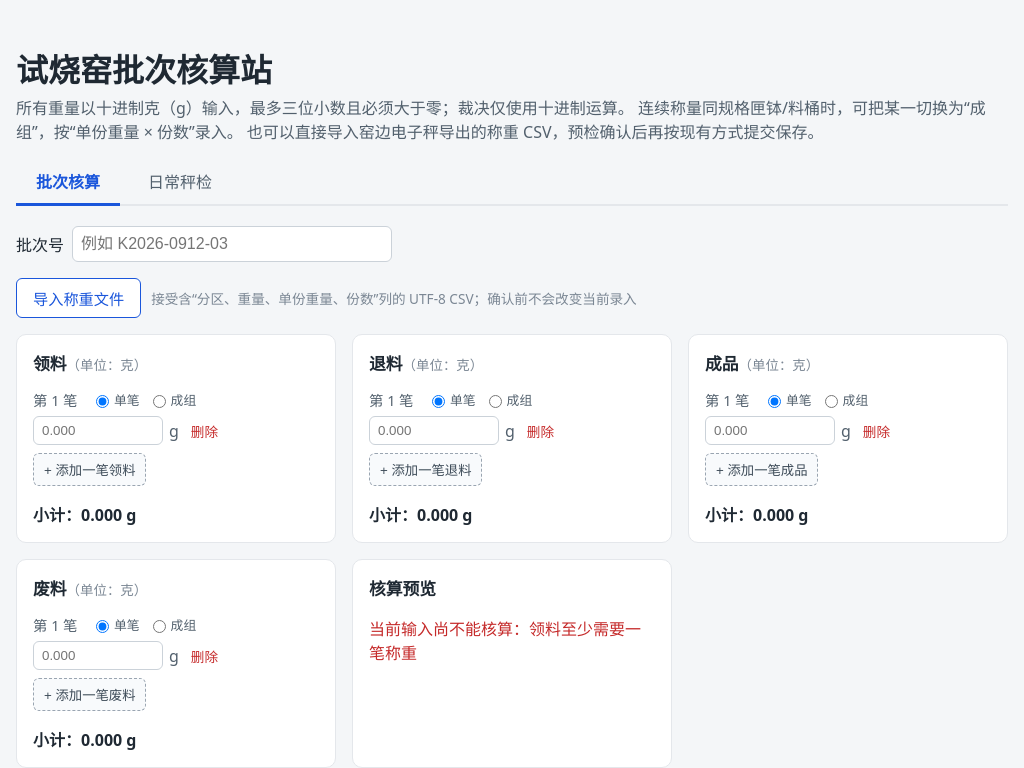
Test case: App 核算站 › 单笔非法重量在提交前被本地十进制校验拦下
This screenshot has width=1024, height=768.
Type "BAD-1" into the field with test id "batch-no" showing "批次号". click: (232, 244)
box: [72,226,392,262]
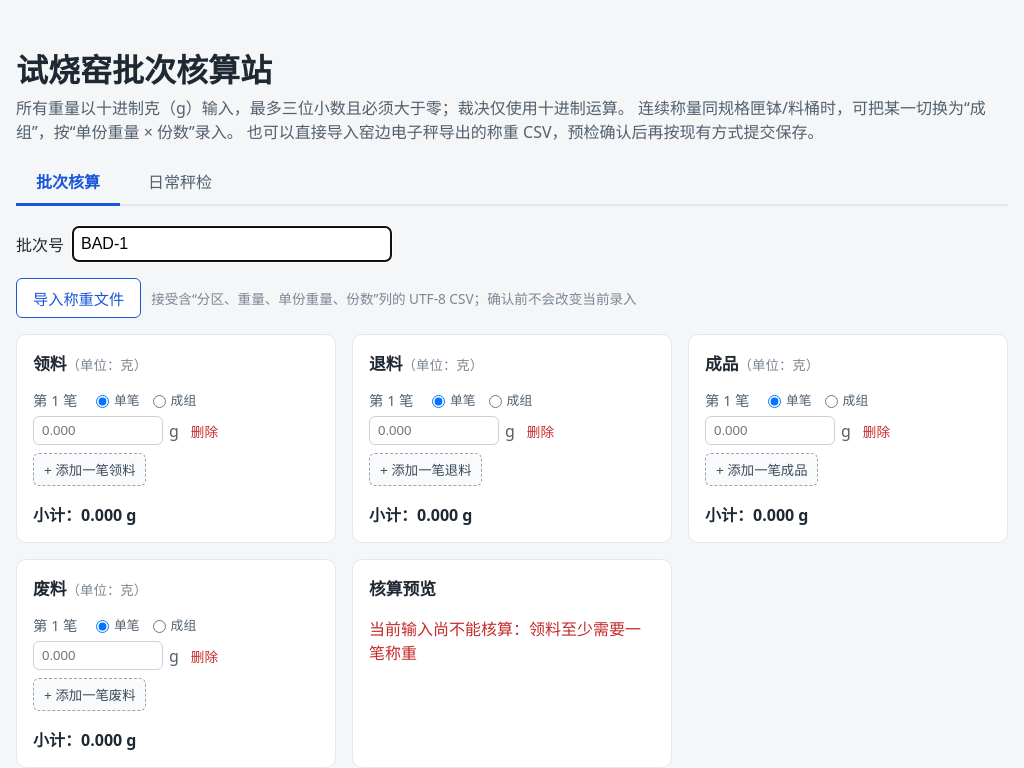
Type "0" into the field named "领料第1笔重量（克）". click: (98, 431)
box: [33,416,163,445]
(page scrolled)
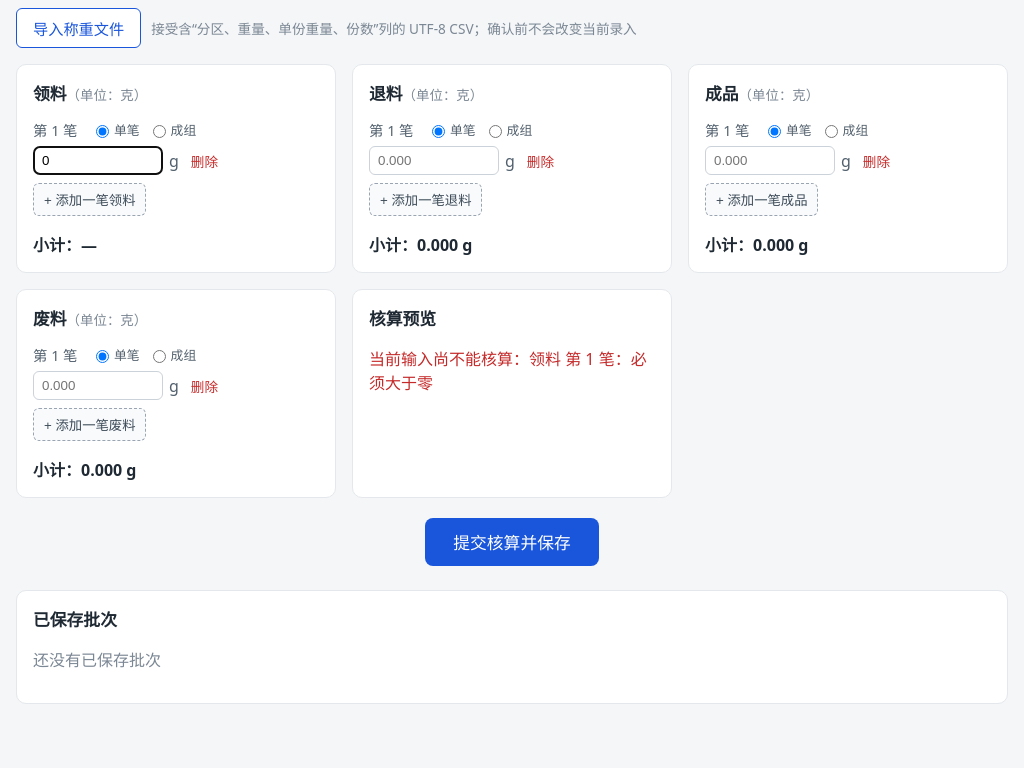
Check: the text "当前输入尚不能核算：领料 第 1 笔：必须大于零" is shown, box [369,346,655,394]
Click the button with test id "submit". click: (512, 542)
box: [425,518,599,566]
(page scrolled)
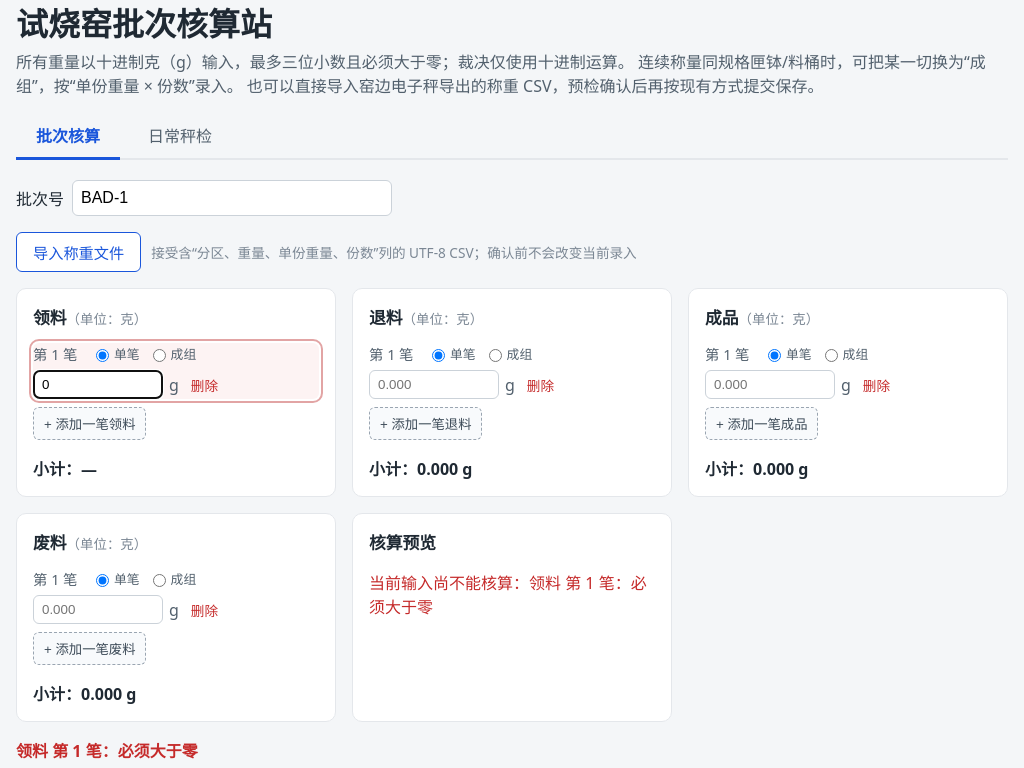
Check: the message with test id "form-error" shows "必须大于零", box [16,740,198,762]
